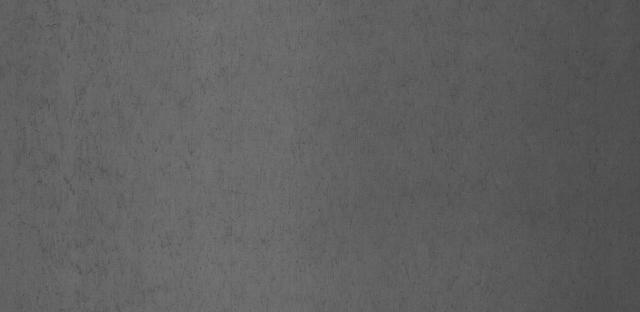silk_spot: (51, 42, 334, 249)
